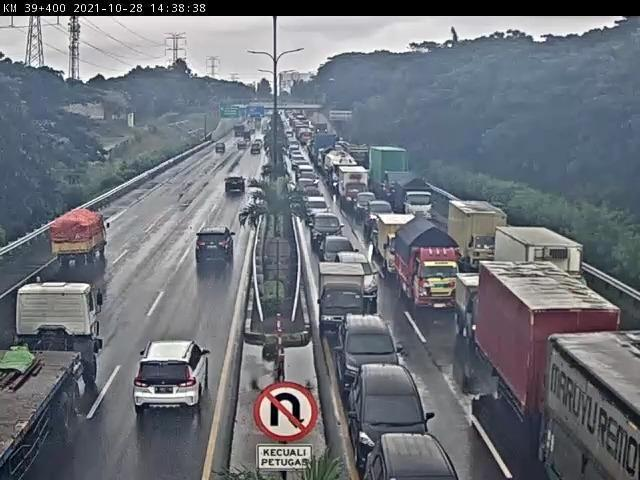car: (340, 364, 447, 454), (133, 337, 214, 413), (360, 439, 483, 480), (341, 314, 405, 385), (192, 224, 244, 278), (338, 253, 380, 303), (370, 201, 397, 242), (315, 215, 345, 251), (326, 237, 361, 266), (306, 196, 333, 227), (299, 168, 327, 191), (355, 194, 381, 217), (223, 178, 245, 200), (299, 179, 317, 188)
truck: (475, 260, 623, 447), (1, 284, 93, 469), (553, 329, 640, 480), (394, 224, 462, 314), (38, 202, 124, 273), (494, 225, 569, 298), (319, 265, 387, 338), (450, 203, 509, 280), (380, 217, 426, 282), (461, 270, 498, 337), (325, 150, 363, 196), (397, 179, 437, 221), (341, 170, 371, 202)
